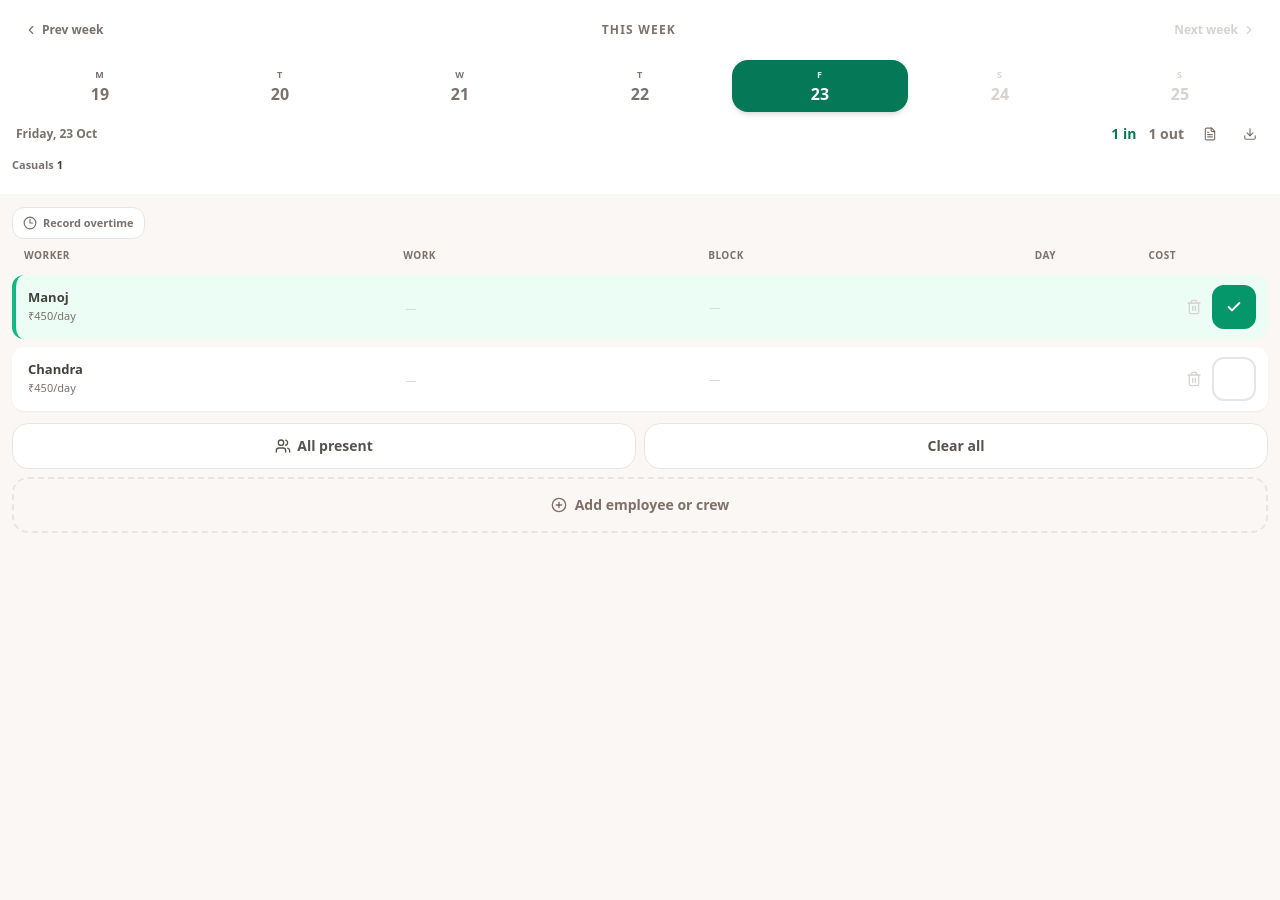
nobody is present until somebody says so › offers nothing to save until the roll differs from what the server returned
Expected: the text "Manoj" is shown, [28,289,69,305]
Expected: the button "Save ·" is not shown
Step 1. Click the text "Chandra" → (56, 369), box [28,361,83,377]
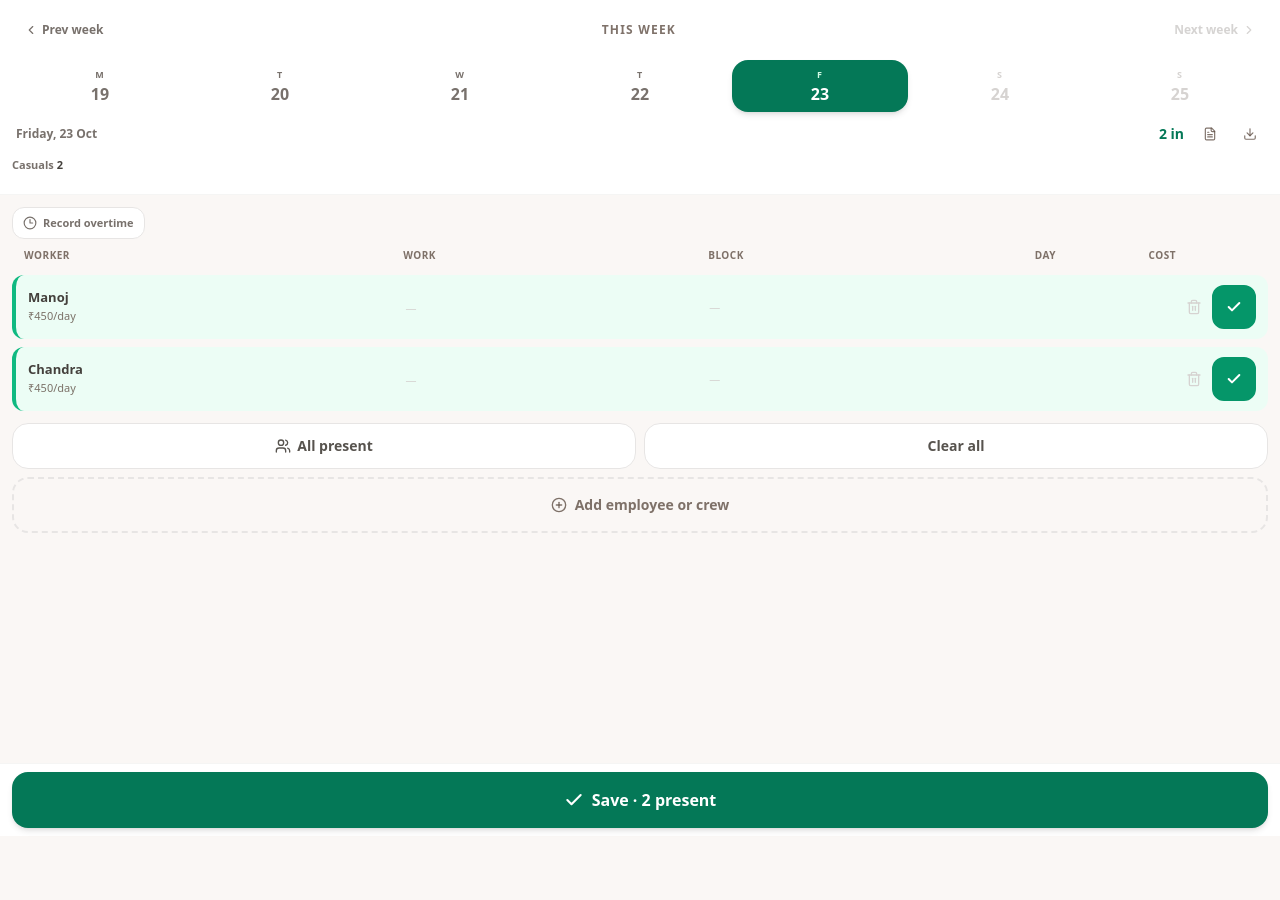
Expected: the button "Save · 2 present" is shown, [12,772,1268,828]
Note: Tapping back to the saved roll withdraws the offer again — it is a comparison, not a flag.
Step 2. Click the text "Chandra" → (56, 369), box [28,361,83,377]
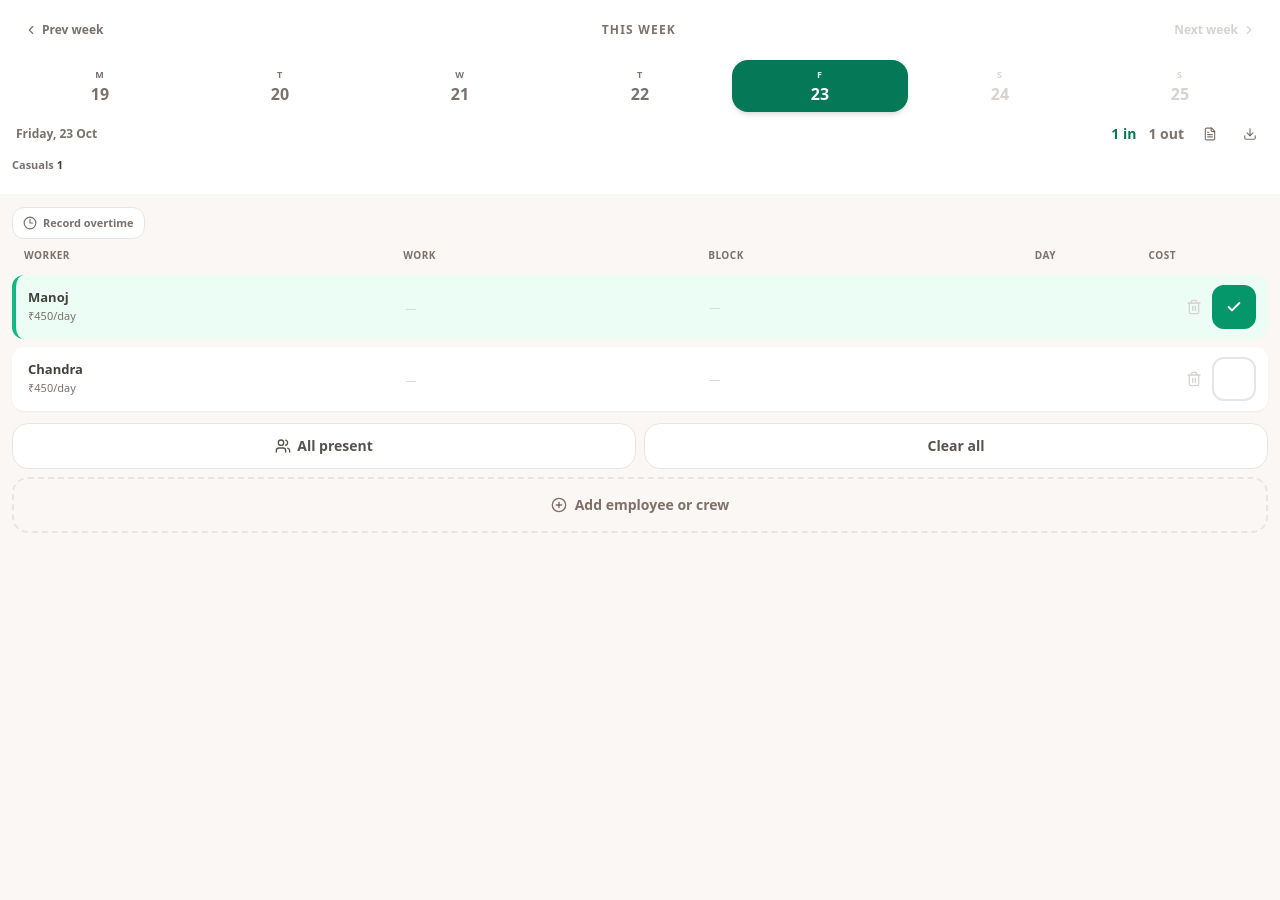
Expected: the button "Save ·" is gone
